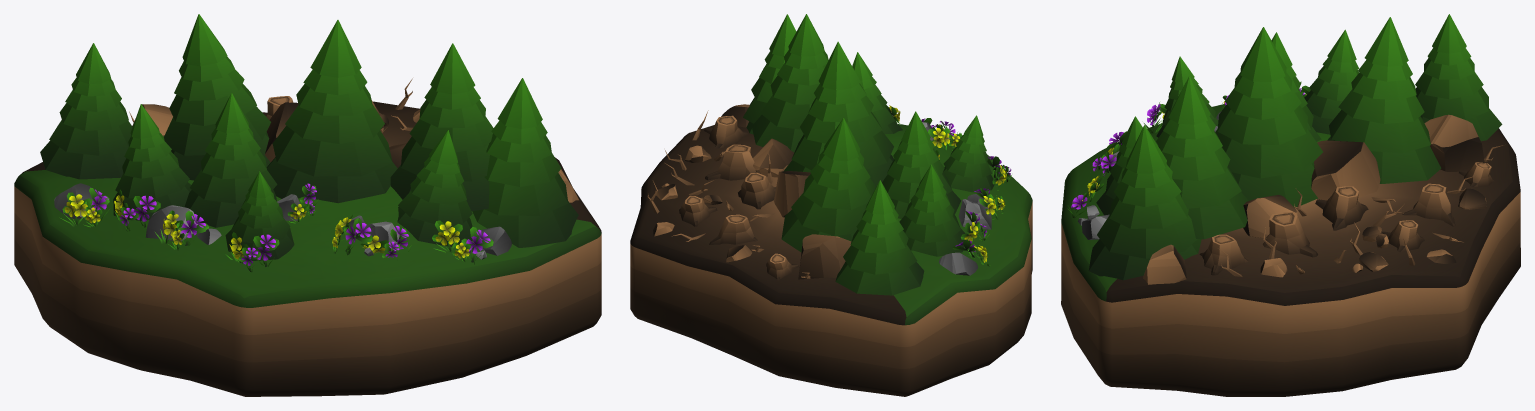
File: Nike_Low_AnimTest_1.gltf
The picture shows the model from 3 angles, left to right: view 1: azimuth 30°, elevation 25°; view 2: azimuth 150°, elevation 25°; view 3: azimuth 270°, elevation 25°; orthographic projection. The views are drawn at different scales.
Visible parts, largest first — view 1: Ground, ElMejorArbol.002, ElMejorArbol.004, ElMejorArbol.003, ElMejorArbol.001, ElMejorArbol, ElMejorArbol.006, ElMejorArbol.008, ElMejorArbol.005, ElMejorArbol.009, Rock.001, Rock.011 (+8 smaller); view 2: Ground, ElMejorArbol.001, ElMejorArbol.002, ElMejorArbol, ElMejorArbol.003, ElMejorArbol.005, ElMejorArbol.006, ElMejorArbol.009, Rock.012, ElMejorArbol.004, ElMejorArbol.008, Cylinder.001 (+10 smaller); view 3: Ground, ElMejorArbol.002, ElMejorArbol.001, ElMejorArbol.004, ElMejorArbol.003, ElMejorArbol, Rock.011, ElMejorArbol.005, Rock.012, Cylinder.001, Cylinder.002, Rock.010 (+12 smaller).
Part boxes in pixels (<box>): Ground: <box>14,101,601,396</box>; ElMejorArbol.002: <box>266,20,397,203</box>; ElMejorArbol.004: <box>472,78,578,247</box>; ElMejorArbol.003: <box>390,43,493,211</box>; ElMejorArbol.001: <box>164,14,270,180</box>; ElMejorArbol: <box>40,43,132,179</box>; ElMejorArbol.006: <box>184,93,277,227</box>; ElMejorArbol.008: <box>397,130,472,246</box>; ElMejorArbol.005: <box>113,104,191,220</box>; ElMejorArbol.009: <box>225,171,294,260</box>; Rock.001: <box>145,205,197,241</box>; Rock.011: <box>265,102,298,162</box>; Ground: <box>630,124,1032,396</box>; ElMejorArbol.001: <box>781,118,875,252</box>; ElMejorArbol.002: <box>784,41,893,189</box>; ElMejorArbol: <box>835,180,924,295</box>; ElMejorArbol.003: <box>751,14,828,152</box>; ElMejorArbol.005: <box>899,164,966,256</box>; ElMejorArbol.006: <box>882,111,961,218</box>; ElMejorArbol.009: <box>943,115,994,192</box>; Rock.012: <box>798,234,851,279</box>; ElMejorArbol.004: <box>743,14,796,134</box>; ElMejorArbol.008: <box>852,52,902,133</box>; Cylinder.001: <box>705,144,757,180</box>; Ground: <box>1061,104,1520,396</box>; ElMejorArbol.002: <box>1215,27,1322,207</box>; ElMejorArbol.001: <box>1327,17,1441,183</box>; ElMejorArbol.004: <box>1088,125,1201,280</box>; ElMejorArbol.003: <box>1156,76,1248,239</box>; ElMejorArbol: <box>1415,14,1502,141</box>; Rock.011: <box>1311,140,1380,200</box>; ElMejorArbol.005: <box>1304,29,1359,134</box>; Rock.012: <box>1424,114,1484,171</box>; Cylinder.001: <box>1263,212,1317,257</box>; Cylinder.002: <box>1315,186,1368,230</box>; Rock.010: <box>1243,195,1297,238</box>.
Size of the model in its own units: 0.6641 by 0.4156 by 0.6182.
1 material, 1 textured.
